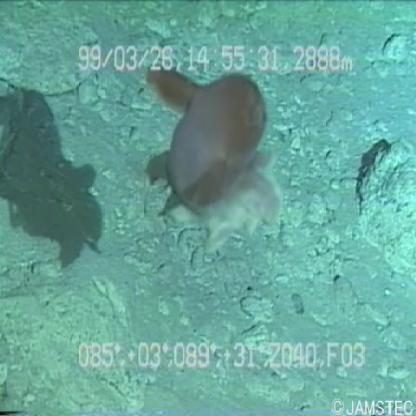Bio: (142, 60, 286, 253)
